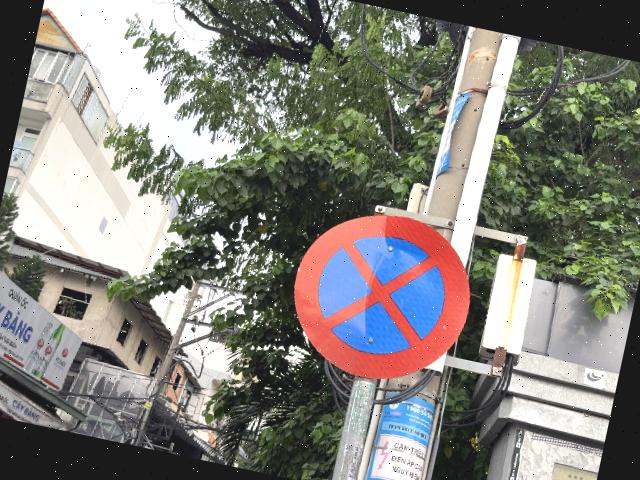cam-dung-va-do-xe: (277, 196, 484, 397)
